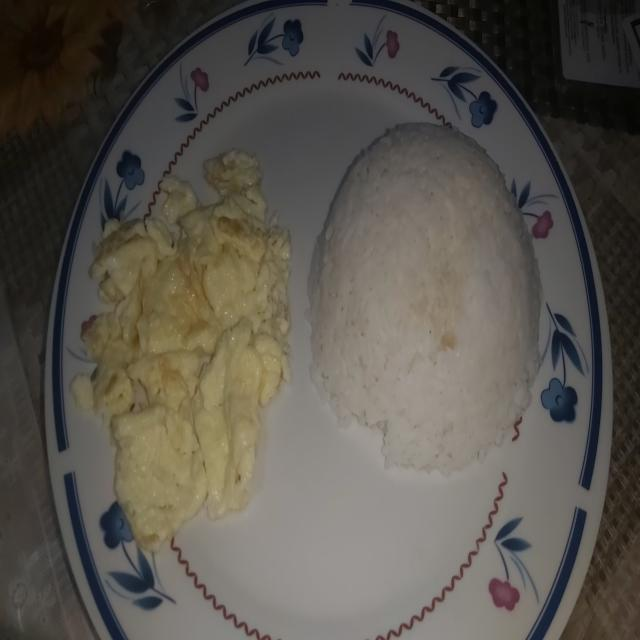Chicken -Chicken Inasal-: (307, 116, 545, 477)
